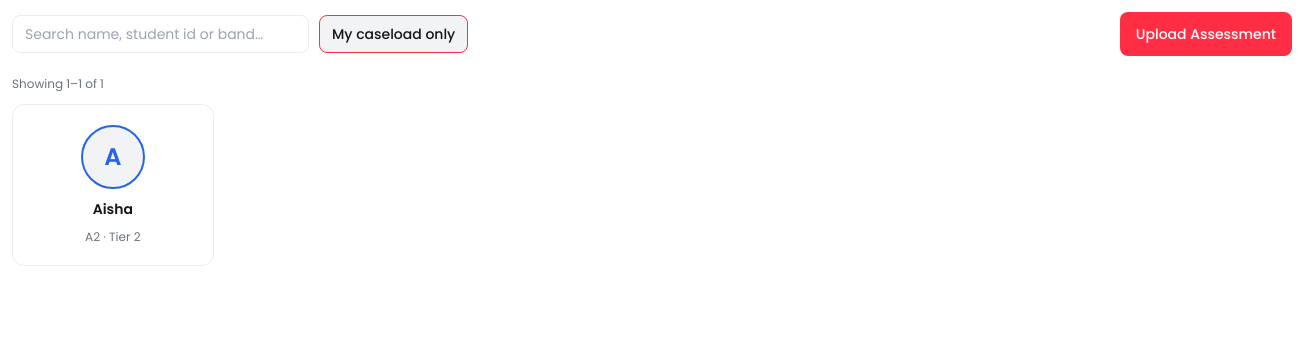
it: the caseload toggle re-queries and reveals the research cohort
Expected: the text "Aisha" is shown, [93,199,133,219]
Click the button "My caseload only" at (394, 34), box [319,15,468,53]
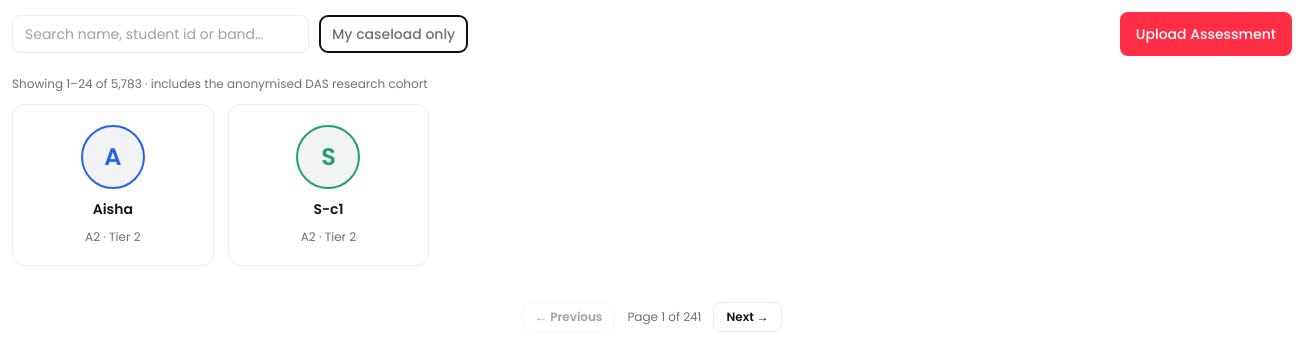
Now the text "of 5,783" is shown, box [12,75,142,92]
Now the text "includes the anonymised DAS research cohort" is shown, box [142,75,428,92]
